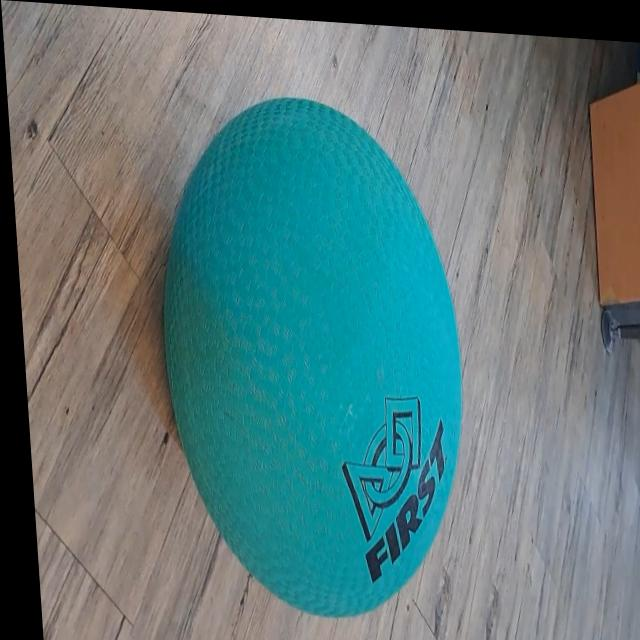ALGAE: (145, 85, 480, 629)
